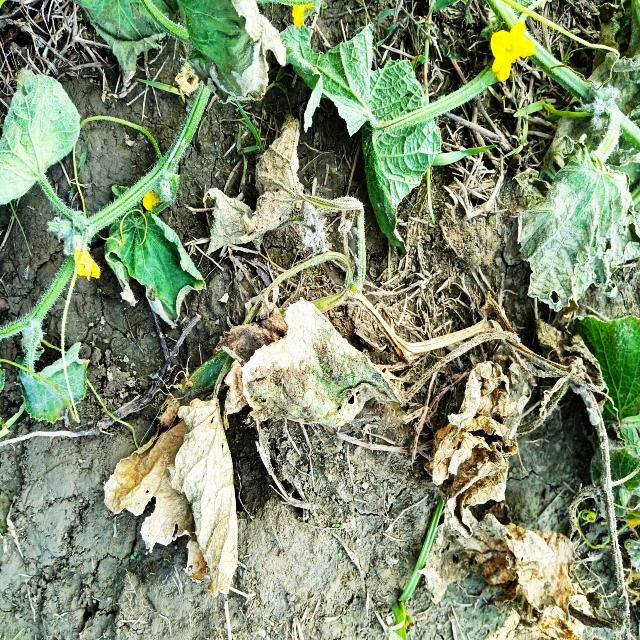Bacterial-Wilt: (425, 362, 584, 639), (101, 395, 241, 600), (514, 134, 640, 317), (175, 0, 287, 104)
